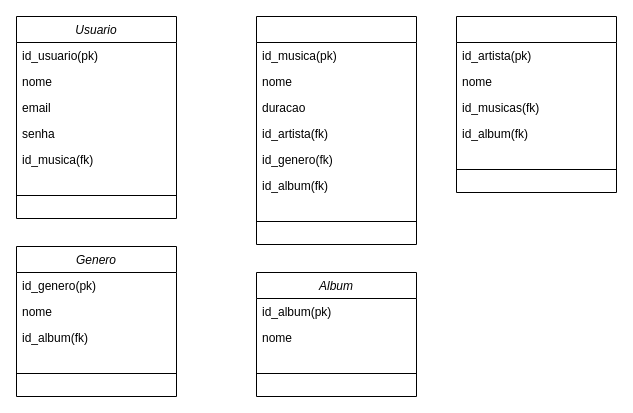
The diagram is 633 pixels wide and 413 high, and some of its shapes have lost their labels. The box of each missing label's shape, as (x1, y1, x2, y2) in pixels:
Artistas: (456, 16, 616, 192)
Musicas: (256, 16, 416, 244)
